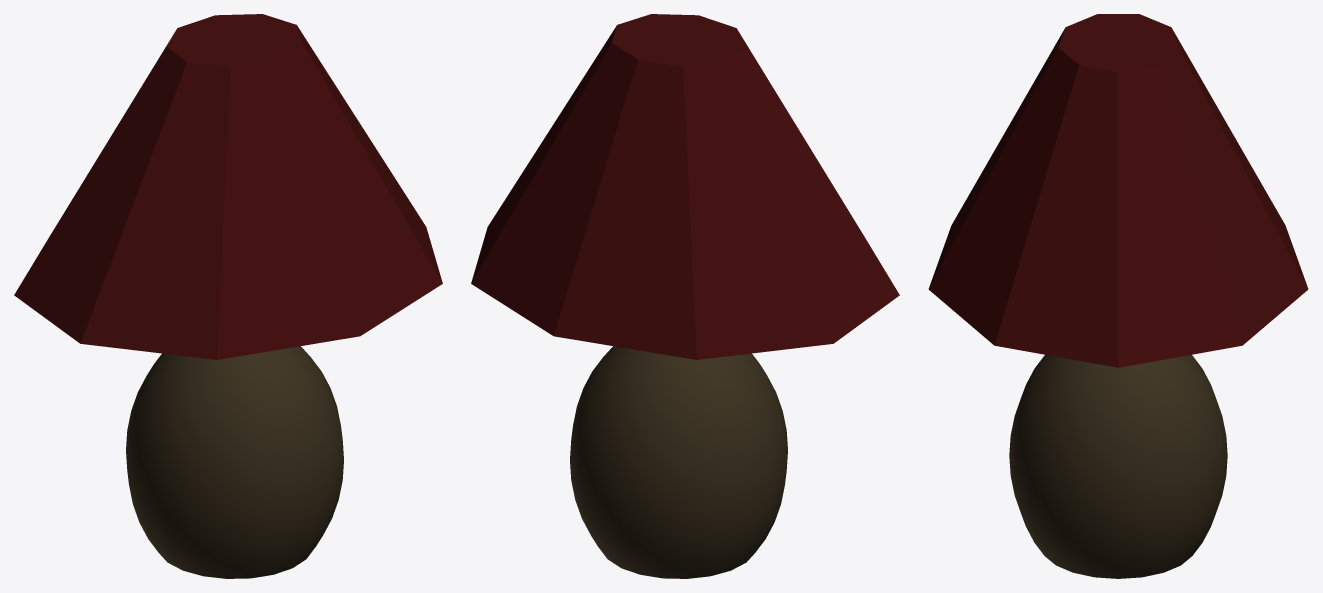
The model's file is LampExport.obj.
3 renders of one model, left to right at view 1: azimuth 30°, elevation 25°; view 2: azimuth 150°, elevation 25°; view 3: azimuth 270°, elevation 25°, orthographic.
Visible parts, largest first — view 1: lamp_base2; view 2: lamp_base2; view 3: lamp_base2.
Part boxes in pixels (<box>): lamp_base2: <box>14,14,442,578</box>; lamp_base2: <box>471,14,899,578</box>; lamp_base2: <box>928,14,1308,578</box>.
Size of the model in its own units: 9.92 by 12.67 by 8.65.
